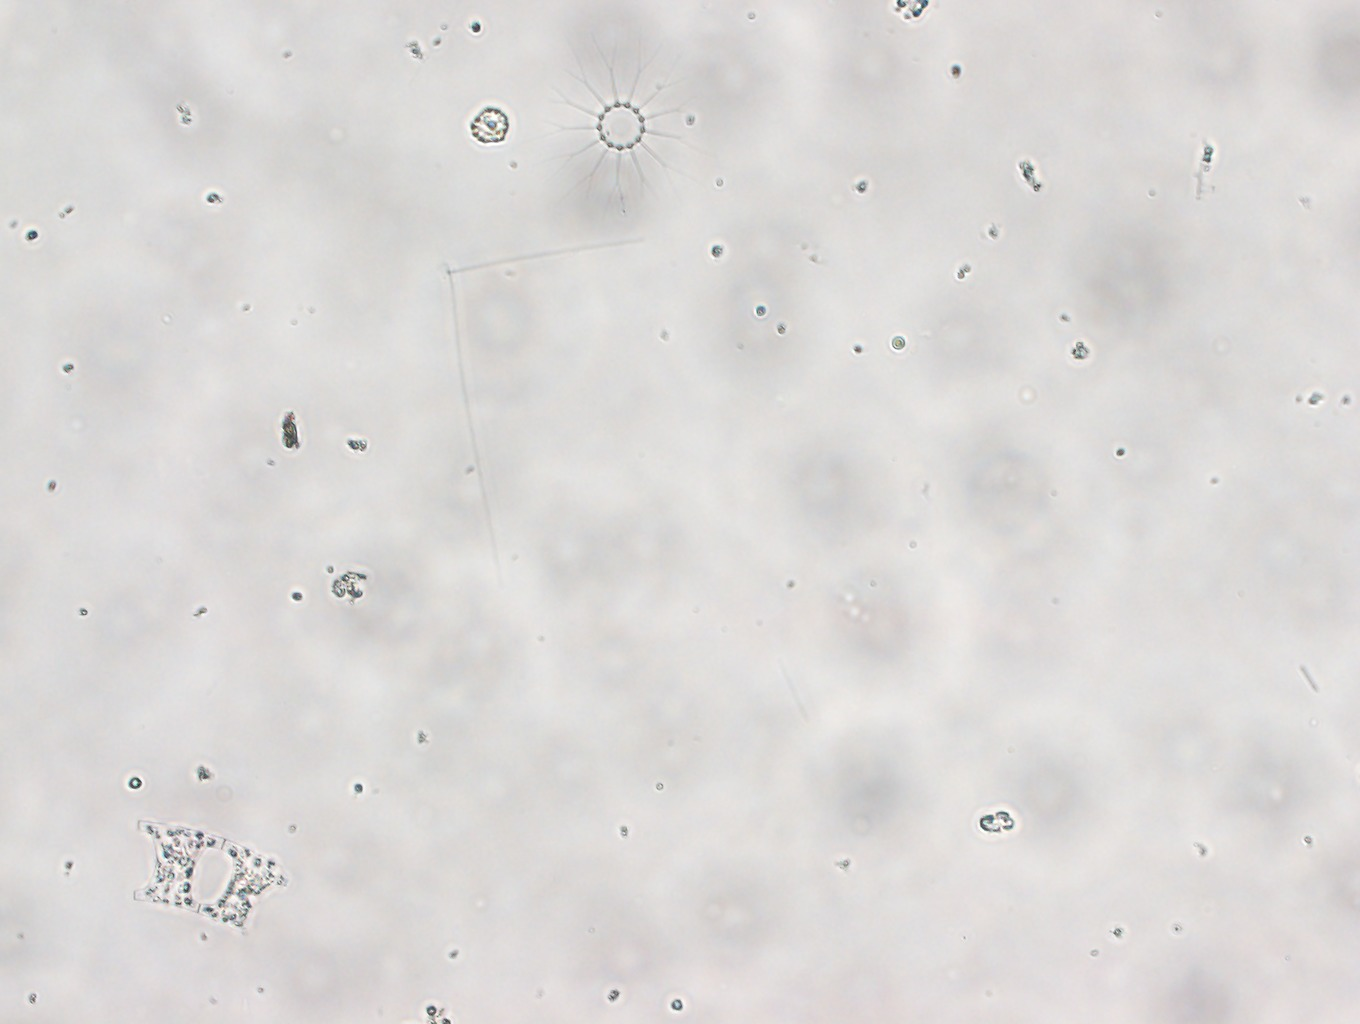bacteriastrum: (536, 34, 708, 214)
eucampia: (123, 816, 295, 939)
